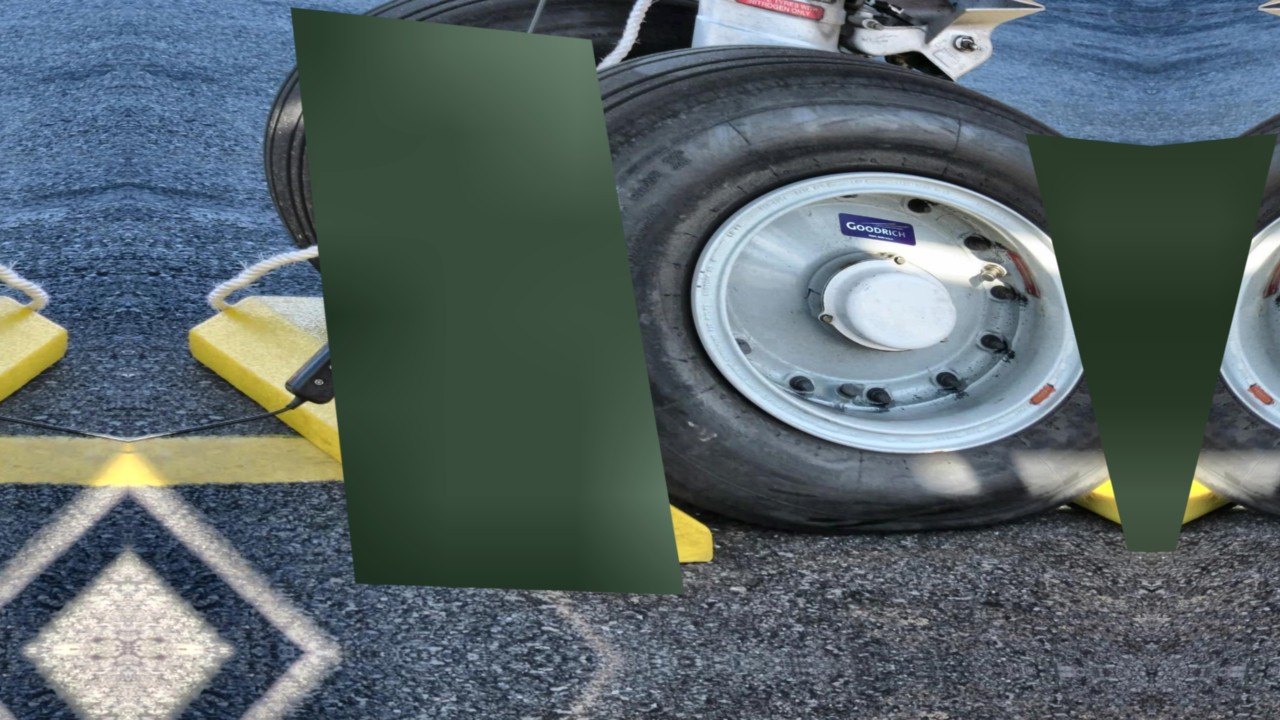chock: (175, 270, 727, 580), (896, 321, 1152, 534), (1152, 321, 1280, 534), (0, 270, 81, 580)
wheel: (414, 6, 1152, 545), (243, 0, 757, 363), (1152, 6, 1280, 545)
